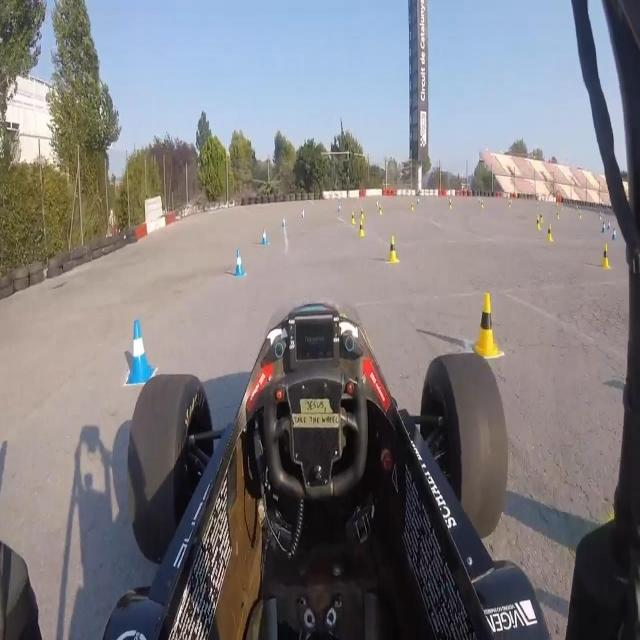blue_cone: (122, 318, 155, 390), (231, 245, 245, 277), (260, 227, 269, 250), (300, 206, 306, 221), (601, 221, 606, 234), (612, 228, 617, 240), (282, 214, 286, 228), (338, 200, 342, 212)
yellow_cone: (471, 291, 504, 361), (387, 236, 401, 266), (601, 243, 610, 272), (545, 223, 554, 245), (359, 219, 365, 238), (350, 209, 356, 226), (536, 214, 541, 231), (360, 207, 366, 220), (378, 204, 383, 216), (410, 203, 414, 212), (448, 201, 452, 210)
